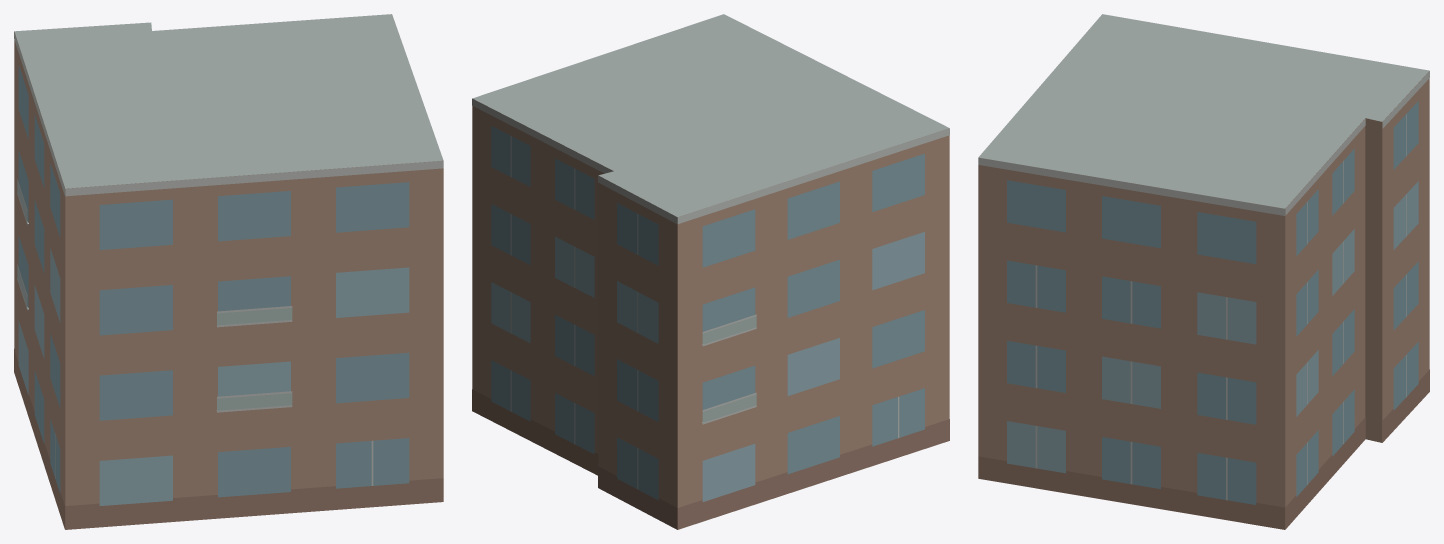
The model's file is survey-upis-32979318.glb.
3 views of the same model, side by side, from view 1: azimuth 30°, elevation 25°; view 2: azimuth 150°, elevation 25°; view 3: azimuth 270°, elevation 25° (orthographic). The views are drawn at different scales.
Visible parts, largest first — view 1: survey-upis-32979318.tmp; view 2: survey-upis-32979318.tmp; view 3: survey-upis-32979318.tmp.
Boxes of the visible parts, left/top/right/bottom form: survey-upis-32979318.tmp: left=14, top=14, right=443, bottom=529; survey-upis-32979318.tmp: left=472, top=14, right=949, bottom=529; survey-upis-32979318.tmp: left=978, top=14, right=1429, bottom=529.
Bounding box in the file's own units: 13.99 × 10.75 × 13.71.
